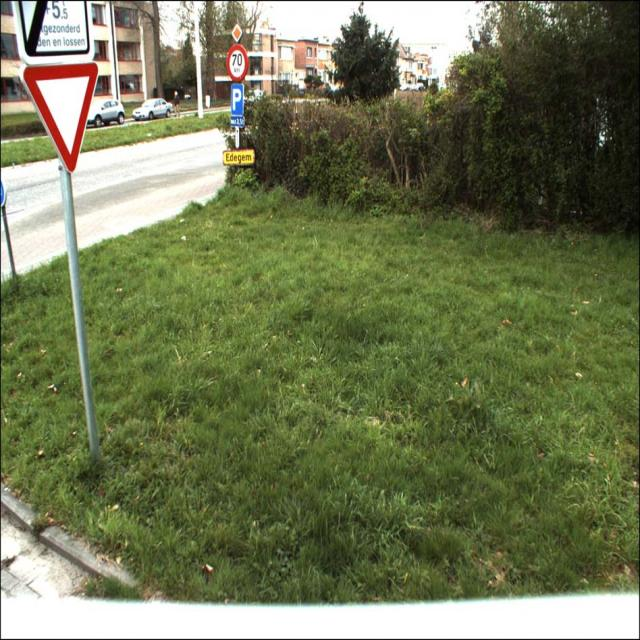park: (231, 84, 244, 116)
